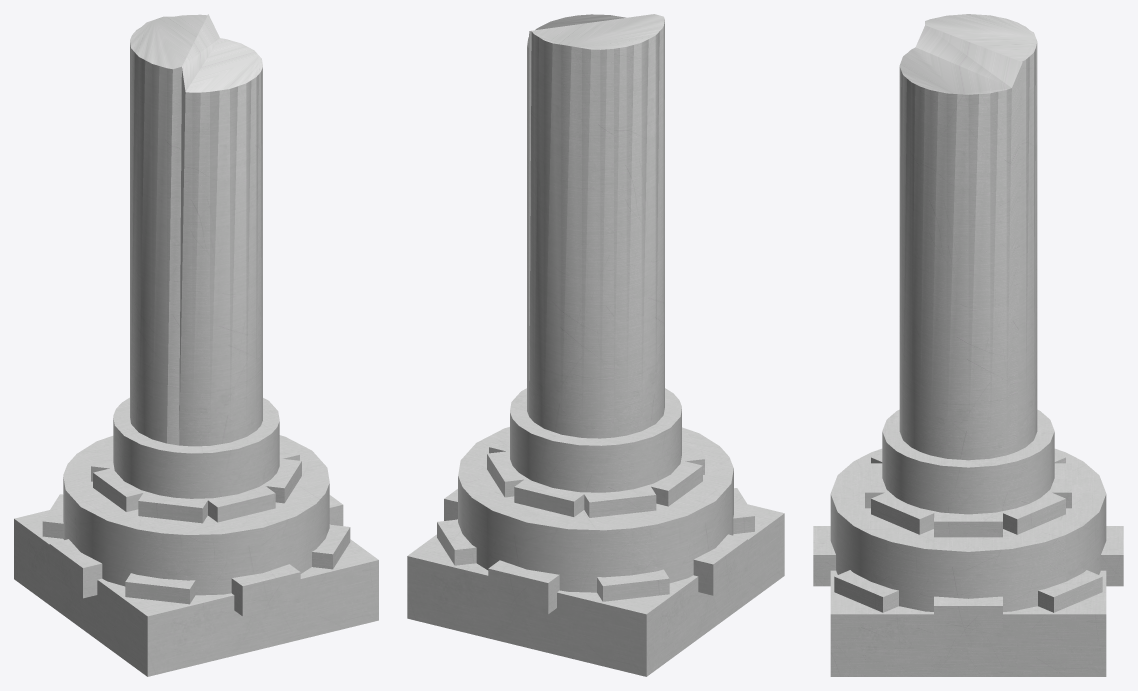
File: CPillar.fbx
3 renders of one model, left to right at view 1: azimuth 30°, elevation 25°; view 2: azimuth 150°, elevation 25°; view 3: azimuth 270°, elevation 25°, orthographic. The views are drawn at different scales.
Visible parts, largest first — view 1: pillar; view 2: pillar; view 3: pillar.
Part boxes in pixels (x1,y1,x2,y2): pillar: (14,14,378,676); pillar: (407,14,784,676); pillar: (813,14,1123,676).
Size of the model in its own units: 450 by 923 by 450.
